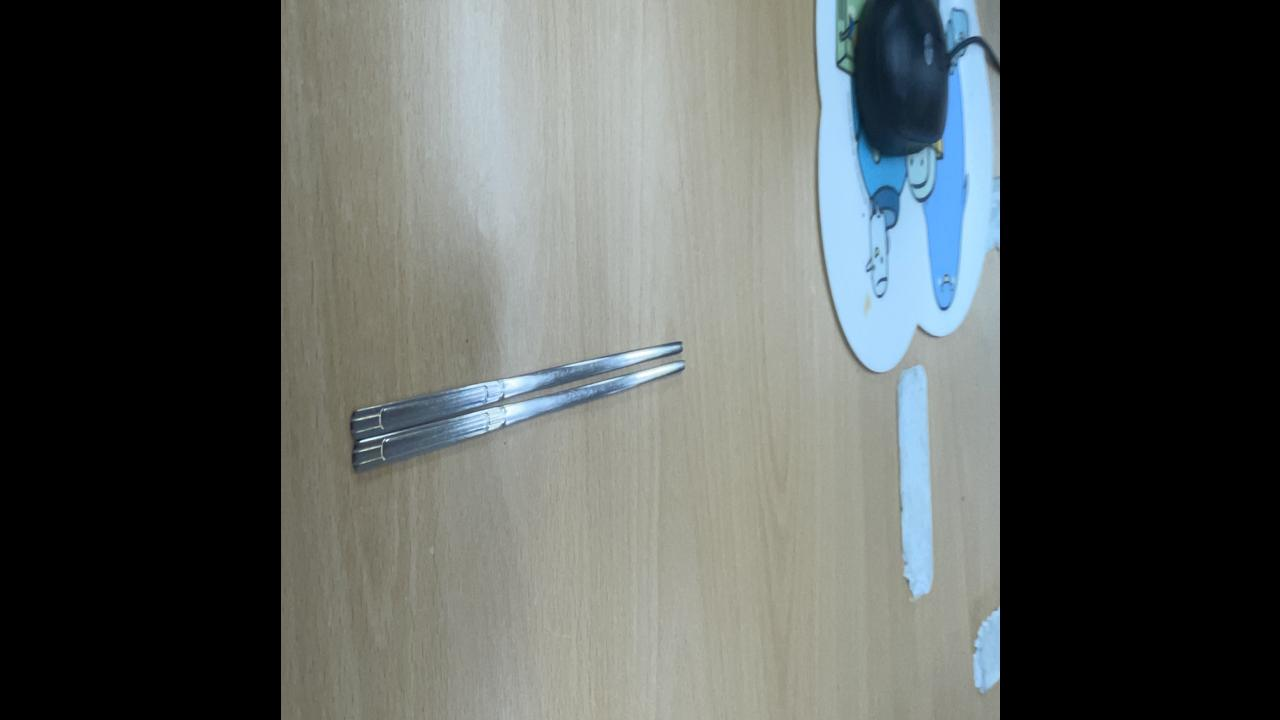chopstick: (344, 333, 686, 471)
